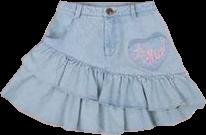Hemline: (21, 57, 205, 110), (0, 92, 204, 133)
Waistline: (40, 40, 189, 77), (56, 7, 157, 17), (59, 0, 154, 6)
